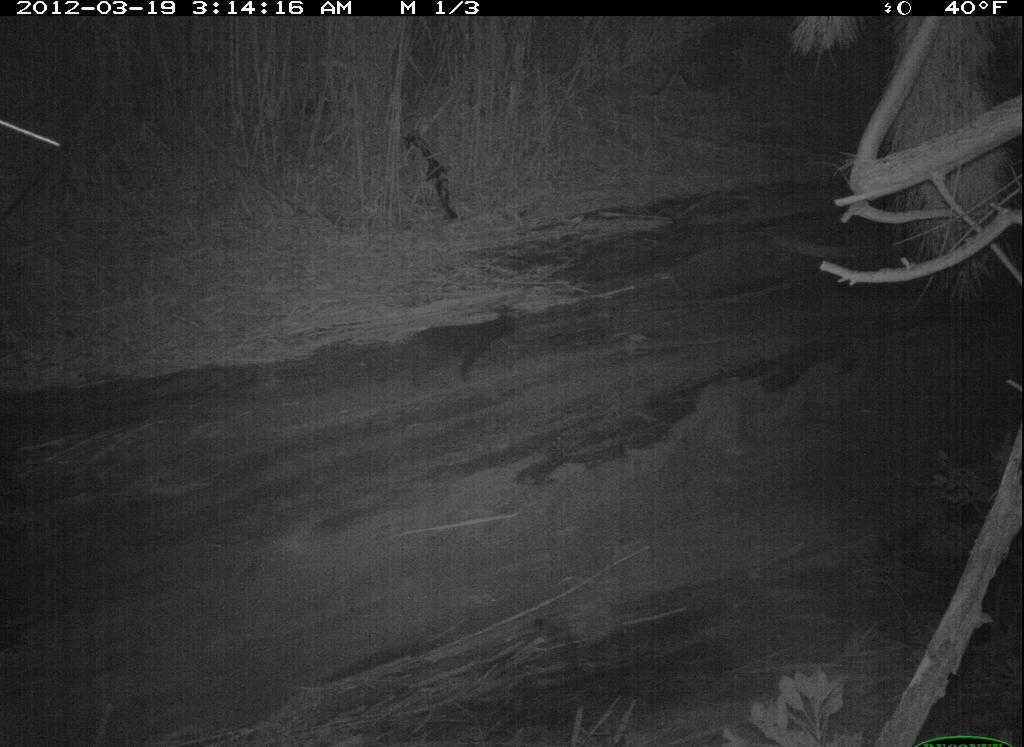cat: (379, 301, 527, 399)
